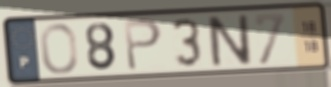3: (170, 17, 204, 69)
7: (252, 10, 289, 67)
8: (84, 21, 120, 73)
N: (203, 13, 255, 69)
O: (38, 21, 80, 76)
P: (121, 16, 164, 74)
